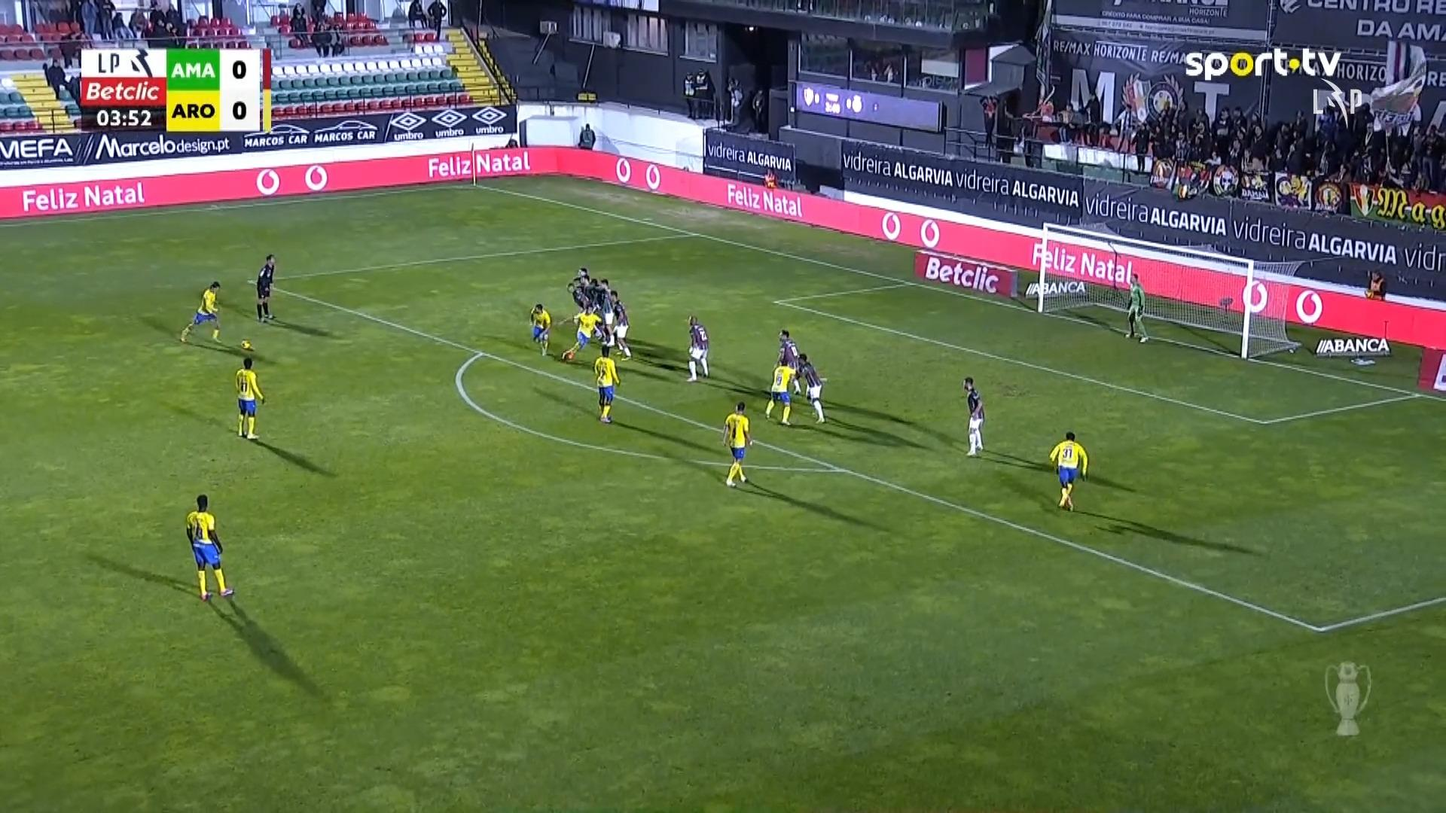ball: (562, 349, 575, 361), (239, 340, 252, 350)
goalkeeper: (1123, 273, 1149, 343)
player: (563, 266, 632, 361), (185, 493, 235, 601), (1349, 269, 1388, 366), (1048, 430, 1088, 510), (178, 280, 222, 344), (721, 400, 752, 487), (234, 356, 265, 440), (561, 303, 605, 361), (764, 361, 799, 425), (592, 344, 620, 423), (796, 352, 827, 423), (962, 376, 985, 457), (606, 290, 631, 359), (685, 314, 709, 382), (775, 328, 801, 390), (529, 302, 551, 356)
referee: (255, 254, 276, 322)
